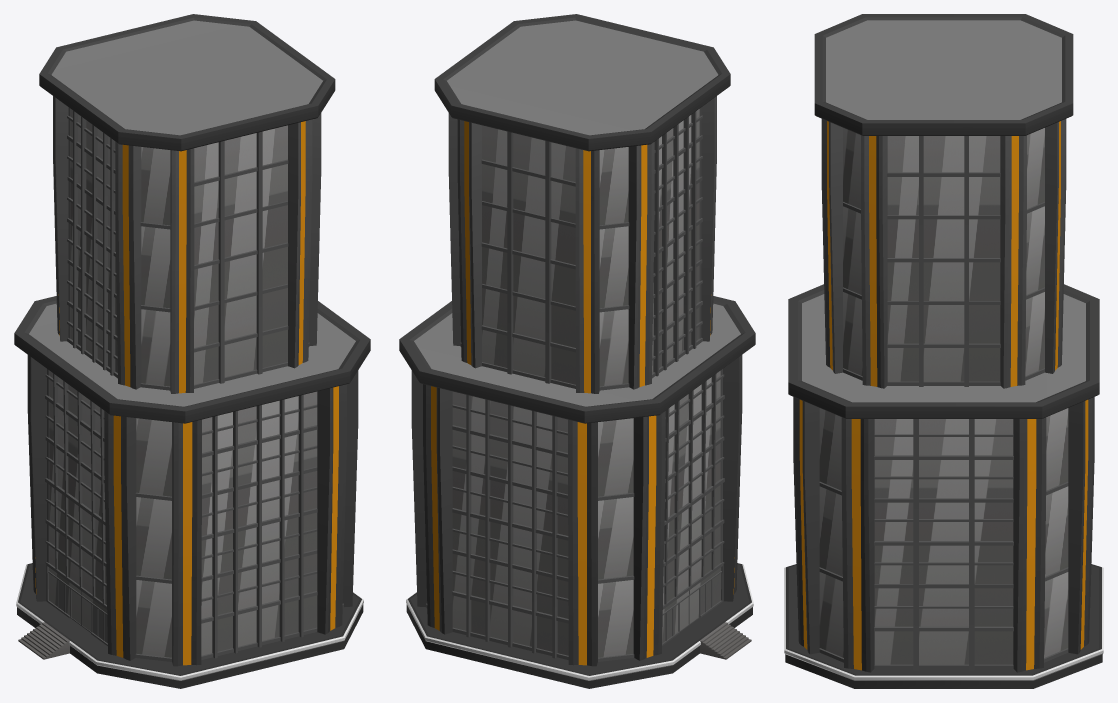
Rendered from Building_7_2_E.fbx.
3 views of the same model, side by side, from view 1: azimuth 30°, elevation 25°; view 2: azimuth 150°, elevation 25°; view 3: azimuth 270°, elevation 25° (orthographic). The views are drawn at different scales.
Visible parts, largest first — view 1: Building_7_2_E; view 2: Building_7_2_E; view 3: Building_7_2_E.
Part boxes in pixels (left/top/right/bottom): Building_7_2_E: left=14, top=14, right=370, bottom=688; Building_7_2_E: left=399, top=14, right=755, bottom=688; Building_7_2_E: left=784, top=14, right=1103, bottom=688.
Bounding box in the file's own units: 2520 × 4418 × 2311.
